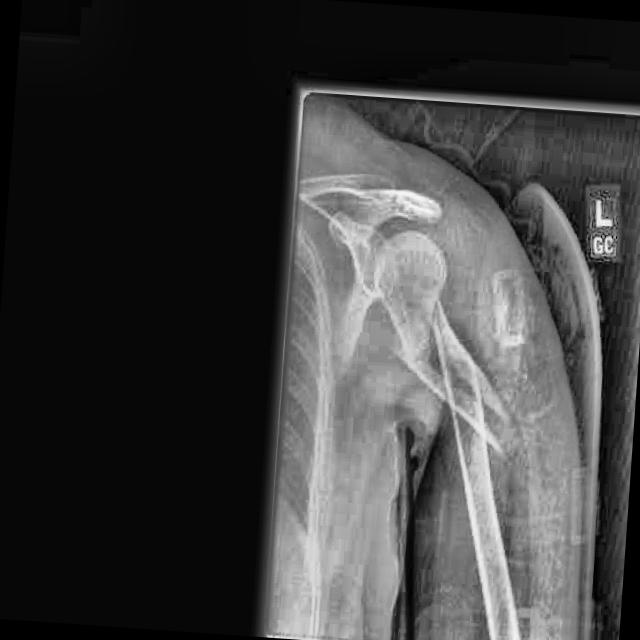shoulder fracture: (408, 293, 538, 486)
